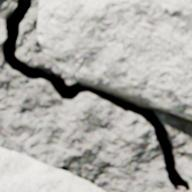brick: (37, 0, 191, 119), (0, 147, 106, 191)
crack: (1, 0, 190, 191)
